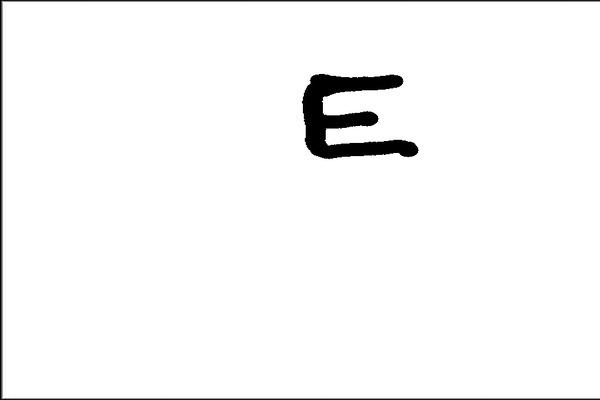E: (296, 70, 423, 164)
